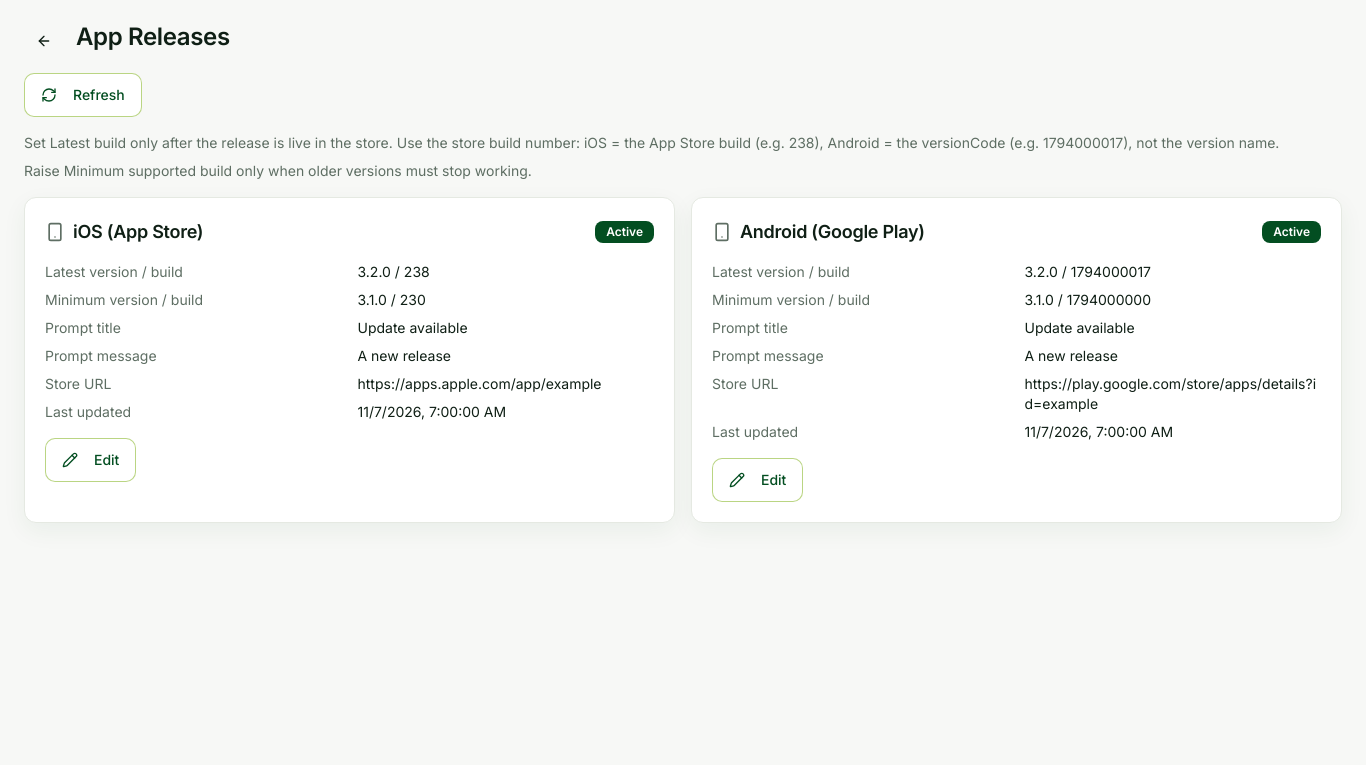
Test: App Releases access and confirmation › shows server error as-is with no success or refresh
Step 1. Click the button "Edit" below "https://apps.apple.com/app/example" → (91, 460), box [45,438,136,482]
(page scrolled)
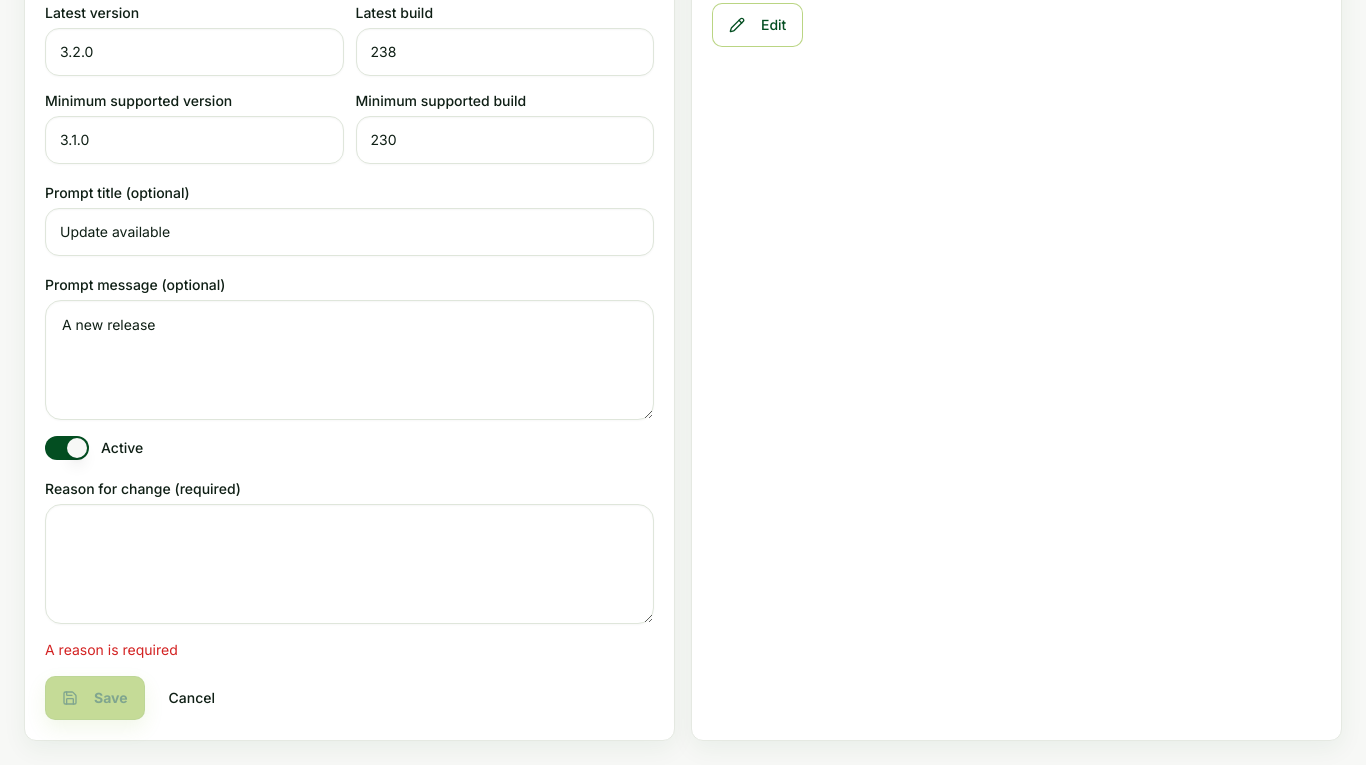
Step 2. Type "Release verified in store" into the text box labelled "Reason for change (required)" → (350, 564), box [45,504,654,624]
(page scrolled)
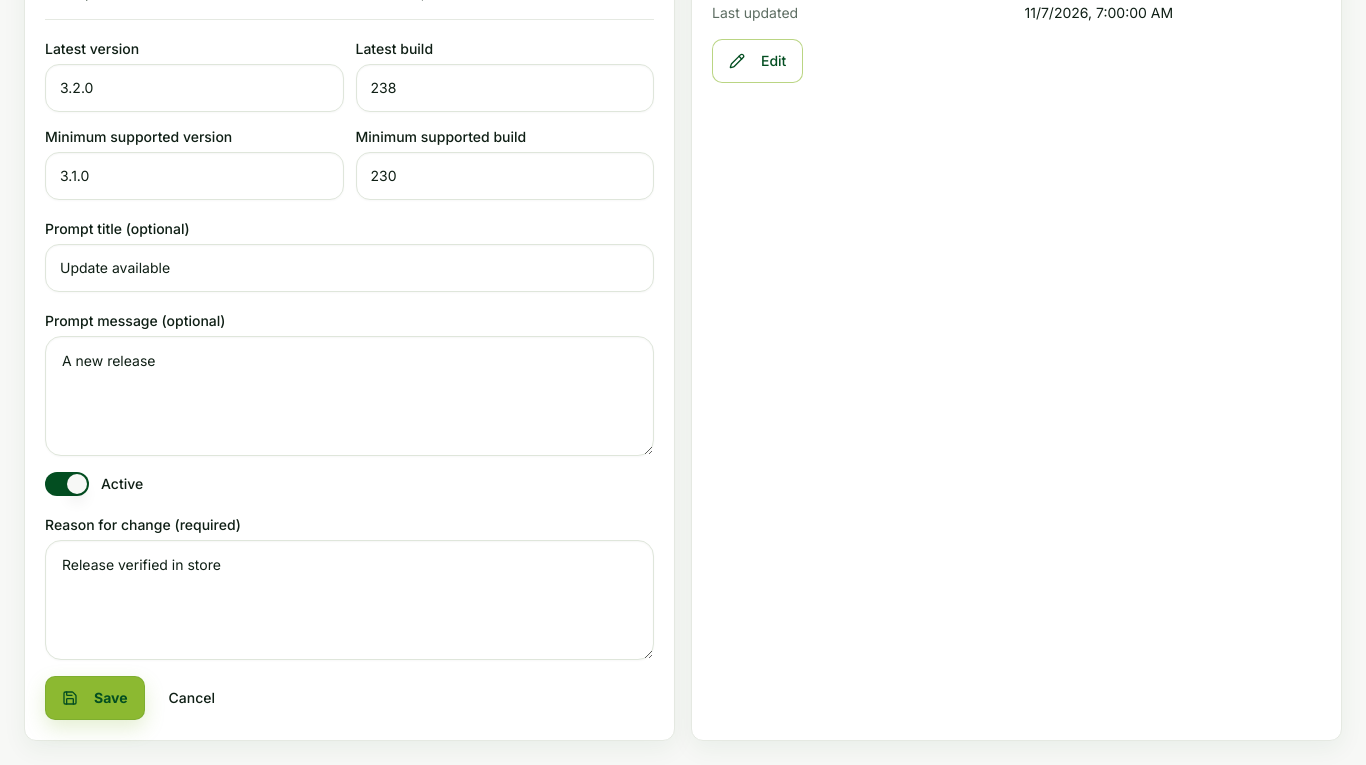
Step 3. Click the button "Save" → (95, 698), box [45,676,144,720]
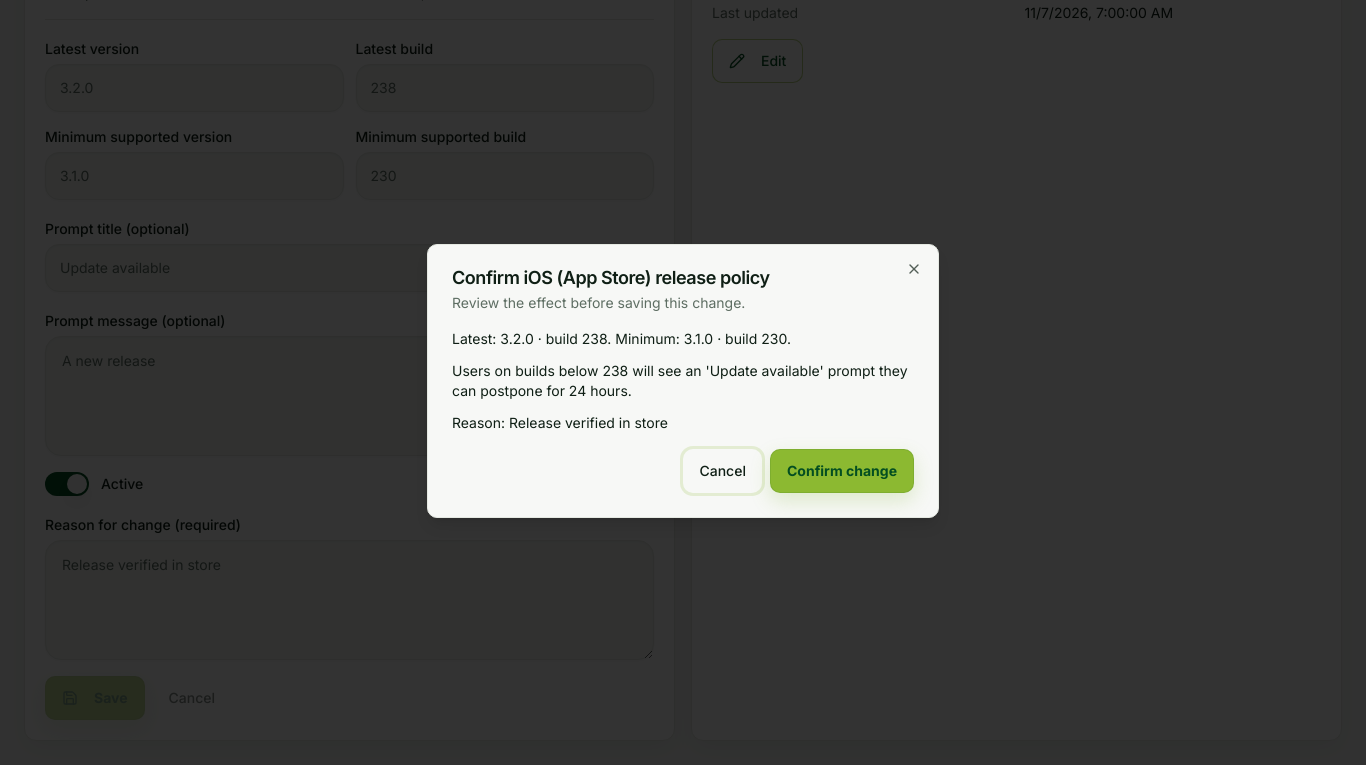
Step 4. Click the button "Confirm change" → (842, 471), box [770,449,914,493]
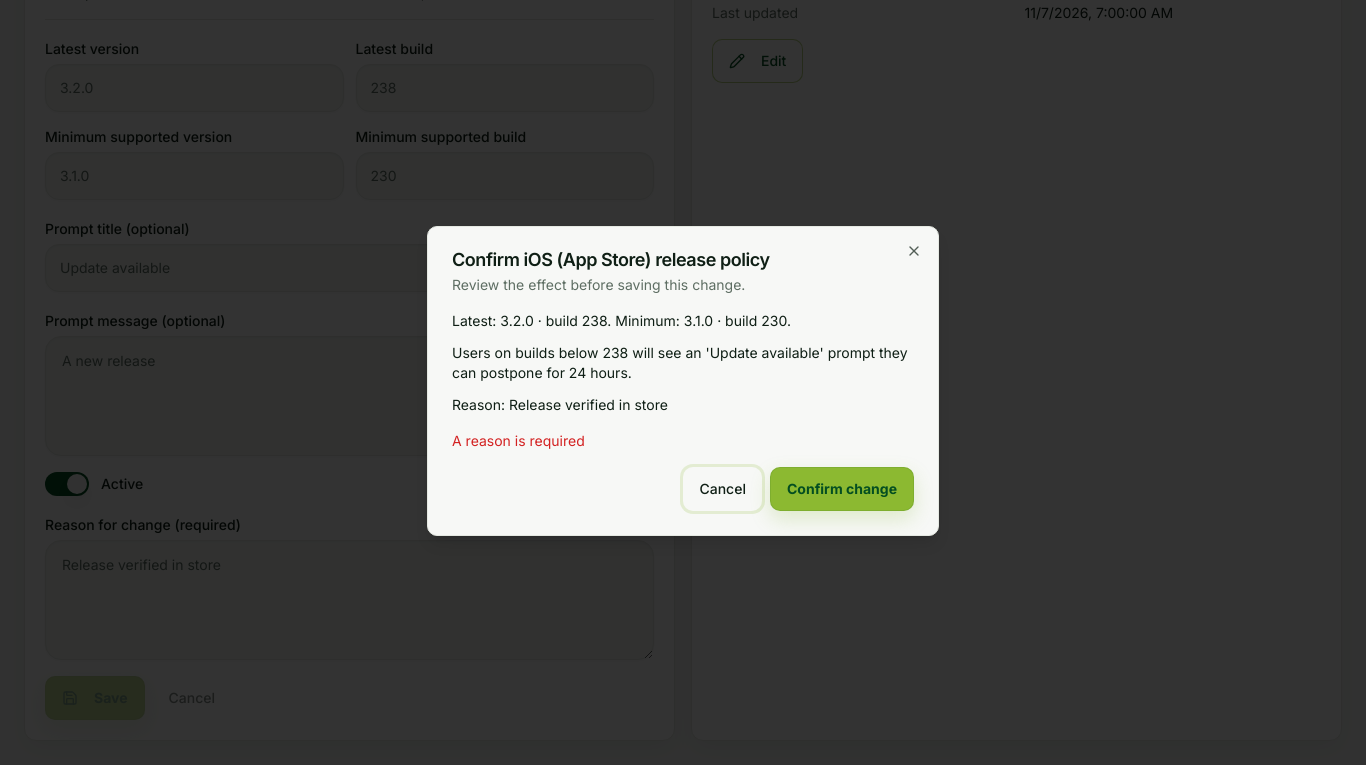
Now the dialog is shown, box [427,226,939,536]
Now the message reads "A reason is required", box [452,432,585,449]
